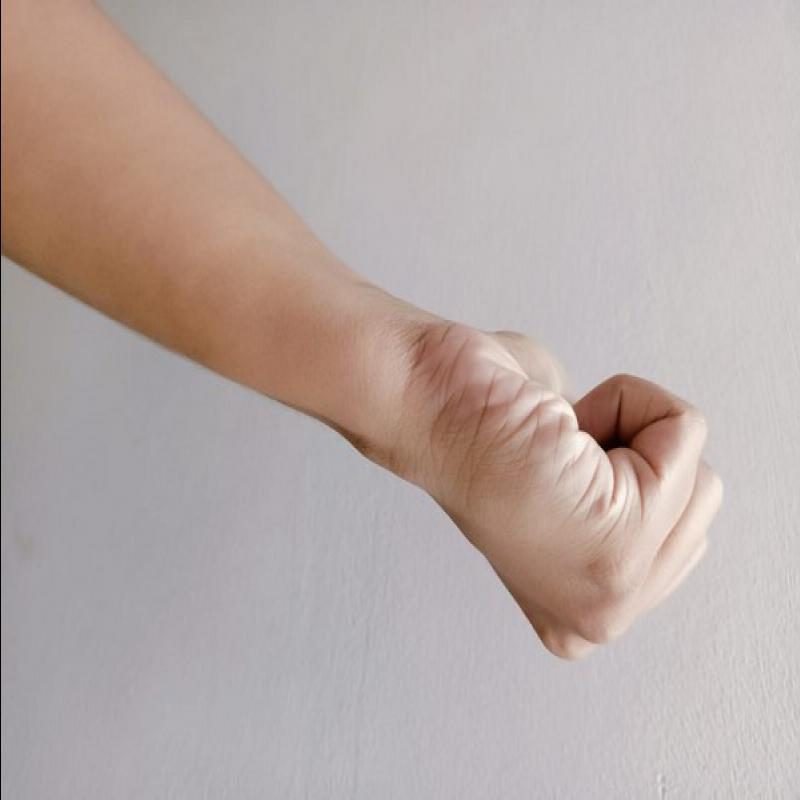Mushti: (403, 301, 758, 683)
